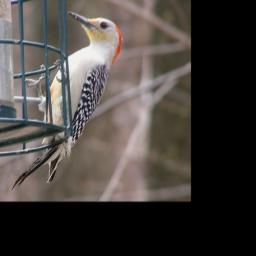Woodpecker: (12, 8, 125, 191)
